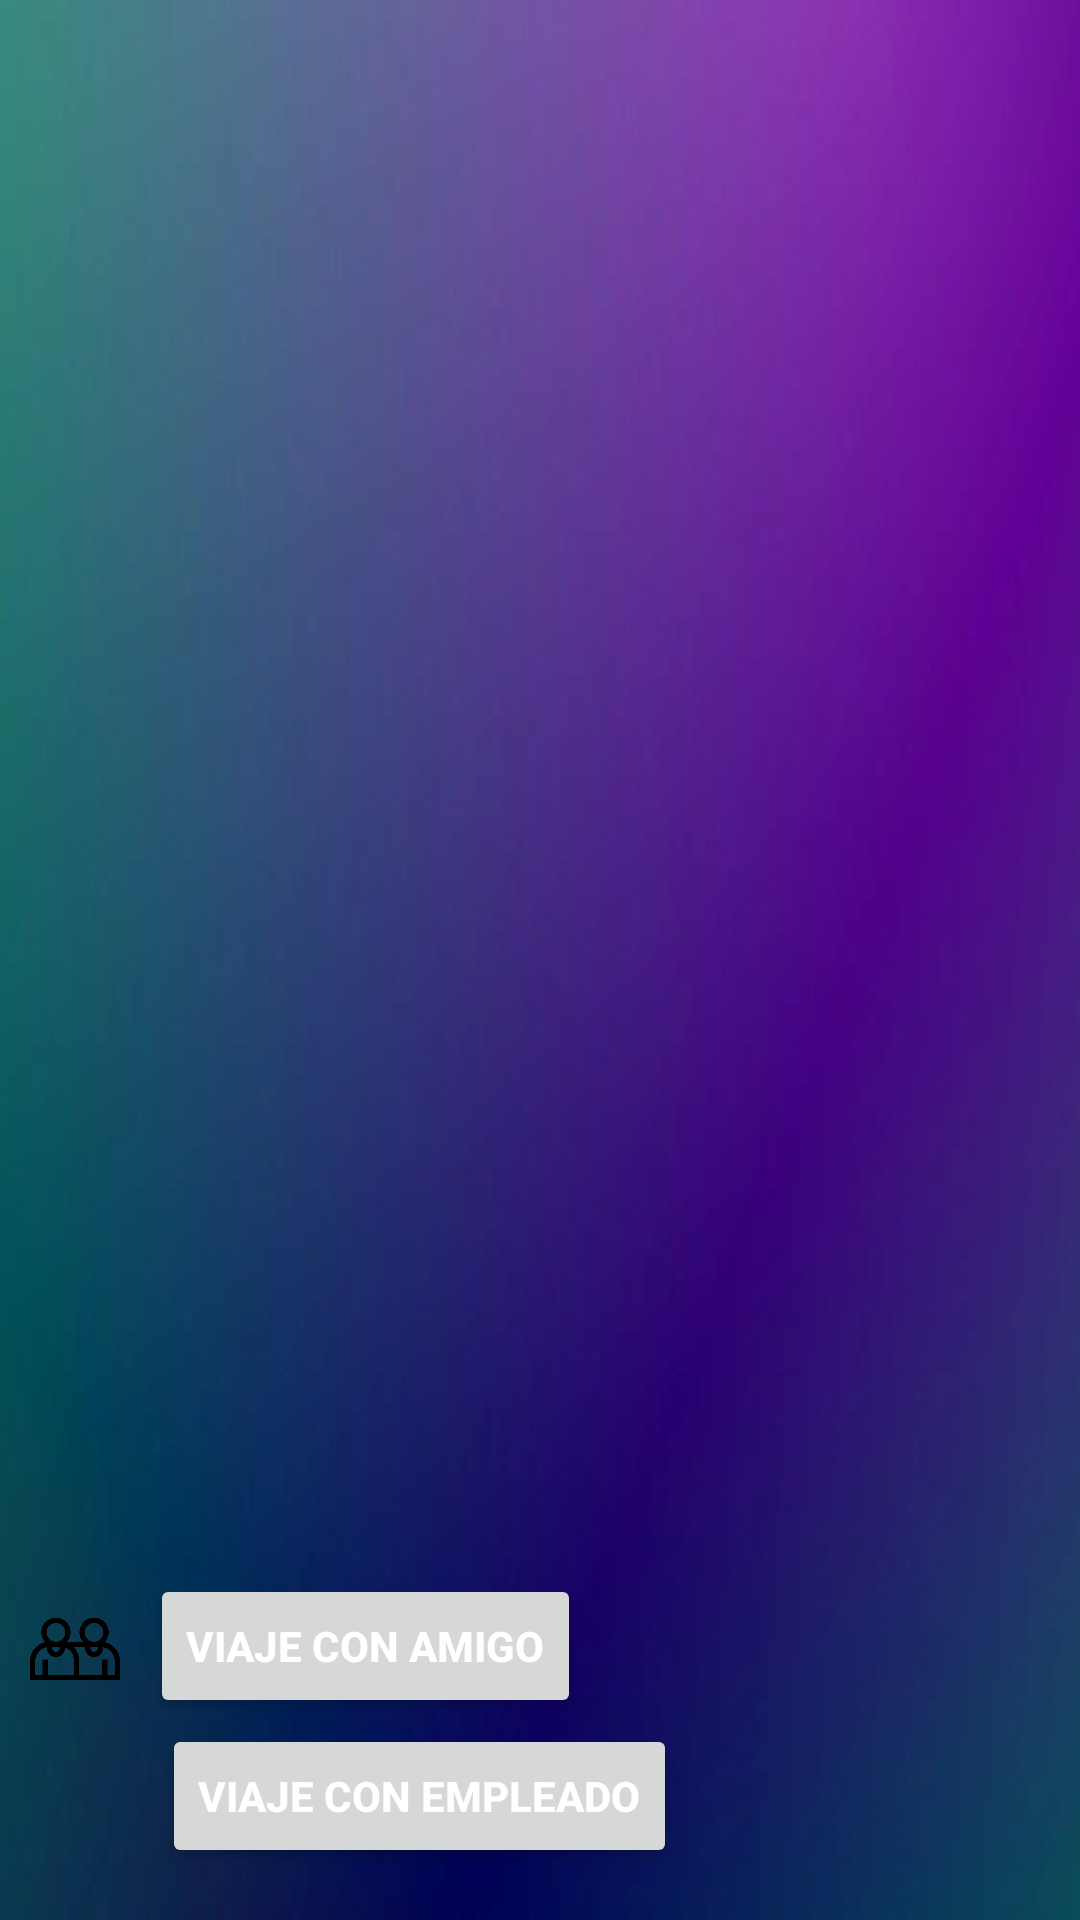

Where icons sit on this 1080 x 1920 app screen, as box=[x1, y1, x2, y2]:
amistad: box=[30, 1618, 120, 1680]
